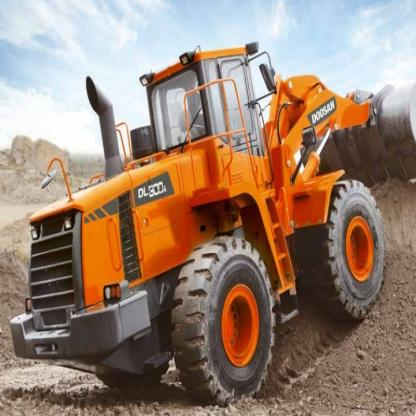bull_dozer/loader/grader: (13, 33, 415, 400)
